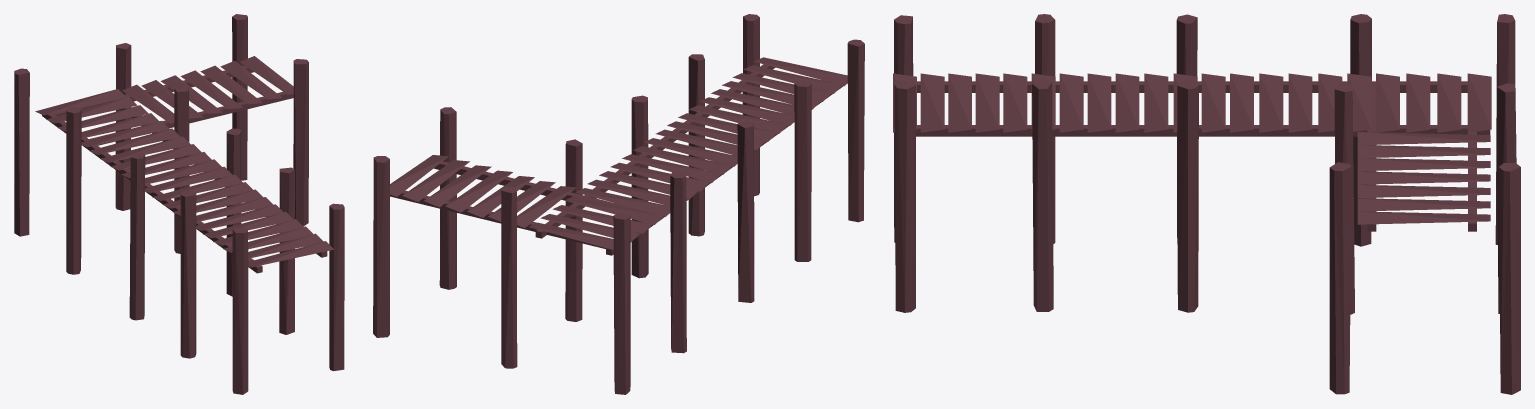
File: camp-dock.lod2.glb
The picture shows the model from 3 angles, left to right: view 1: azimuth 30°, elevation 25°; view 2: azimuth 150°, elevation 25°; view 3: azimuth 270°, elevation 25°; orthographic projection. The views are drawn at different scales.
Visible parts, largest first — view 1: Cube.029_Material.020_0; view 2: Cube.029_Material.020_0; view 3: Cube.029_Material.020_0.
Part boxes in pixels (x1=…): Cube.029_Material.020_0: x1=14, y1=14, x2=344, y2=394; Cube.029_Material.020_0: x1=373, y1=14, x2=864, y2=394; Cube.029_Material.020_0: x1=893, y1=14, x2=1520, y2=394.
Bounding box in the file's own units: 8.34 × 5.5 × 14.
